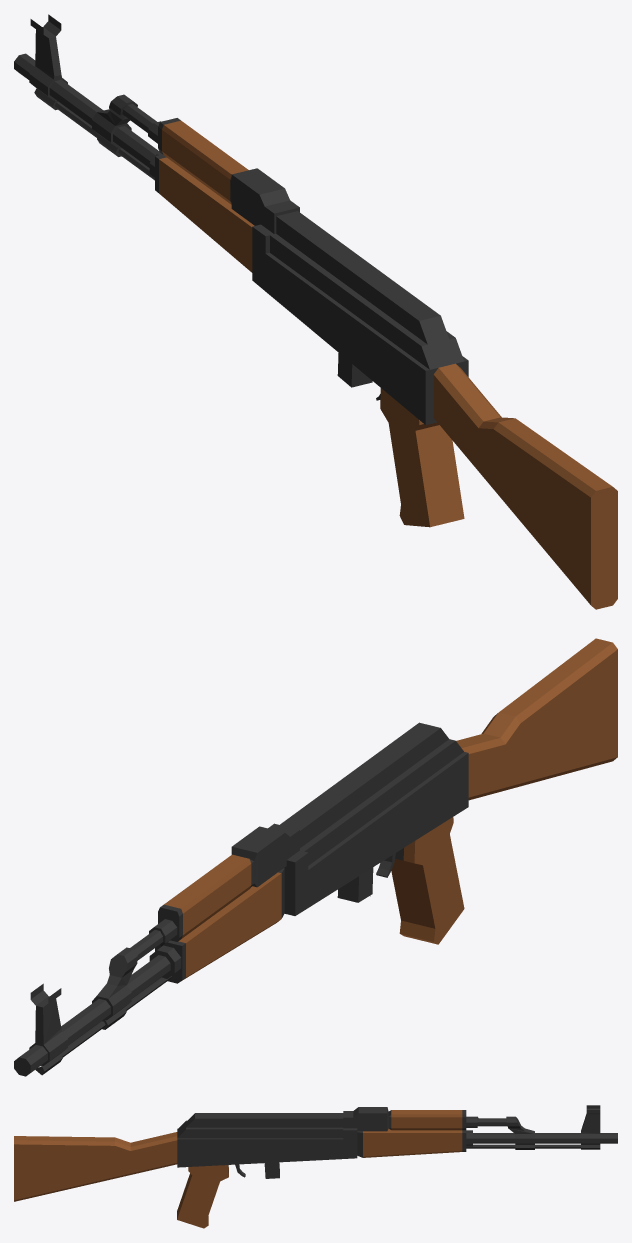
3 views of the same model, one above another, from view 1: azimuth 30°, elevation 25°; view 2: azimuth 150°, elevation 25°; view 3: azimuth 270°, elevation 25° (orthographic). The views are drawn at different scales.
Parts seen in each view (by area): view 1: ak47; view 2: ak47; view 3: ak47.
Part boxes in pixels (x1,y1,x2,y2): ak47: (14,14,617,609); ak47: (14,638,617,1076); ak47: (14,1105,617,1228).
Size of the model in its own units: 0.037 by 0.1854 by 0.8699.
1 material, 1 textured.
